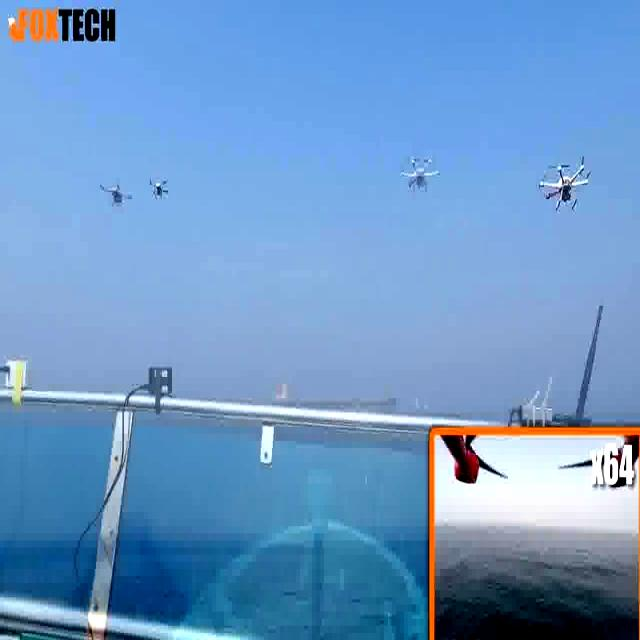drone: (536, 158, 591, 217), (392, 153, 440, 194), (100, 179, 130, 209), (148, 175, 172, 202)
